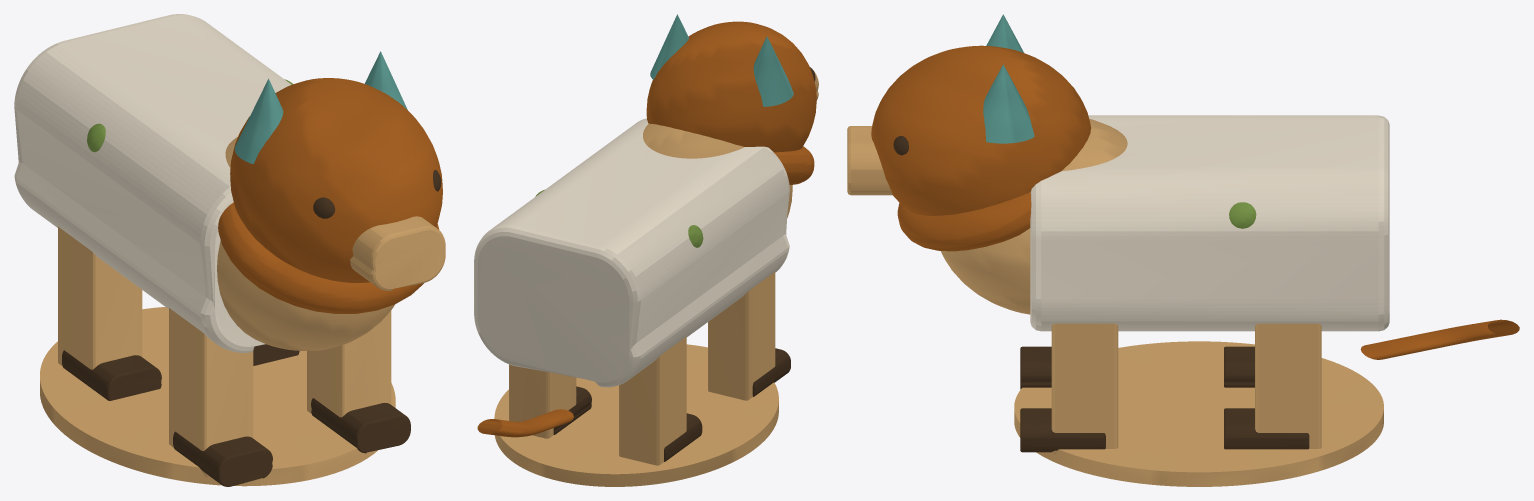
Rendered from 0900_森林动物图鉴_驼鹿.glb.
3 views of the same model, side by side, from view 1: azimuth 30°, elevation 25°; view 2: azimuth 150°, elevation 25°; view 3: azimuth 270°, elevation 25° (orthographic). The views are drawn at different scales.
Visible parts, largest first — view 1: card_0900; view 2: card_0900; view 3: card_0900.
Part boxes in pixels (x1=…): card_0900: x1=14, y1=14, x2=445, y2=486; card_0900: x1=474, y1=14, x2=818, y2=486; card_0900: x1=847, y1=14, x2=1519, y2=486.
Size of the model in its own units: 0.7343 by 1 by 1.59.
